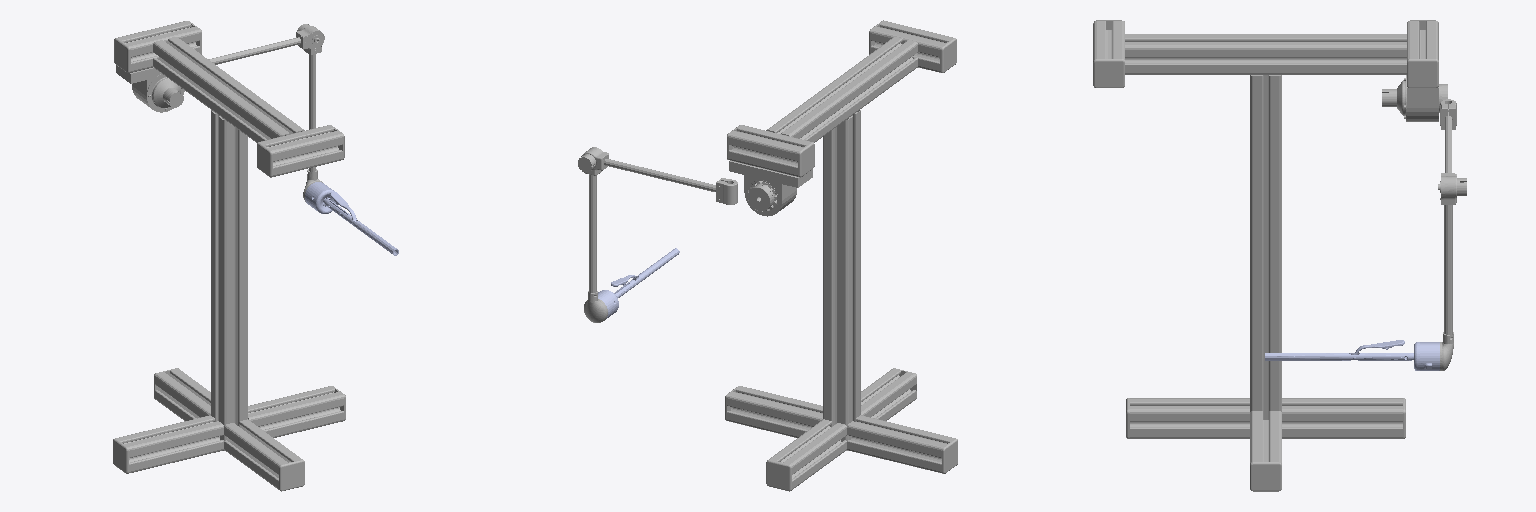
The robot description file, URDF, robot "simple_mtm_v15":
<?xml version="1.0" encoding="utf-8"?>
<!-- This URDF was automatically created by SolidWorks to URDF Exporter! Originally created by Stephen Brawner (brawner@gmail.com) 
     Commit Version: 1.6.0-4-g7f85cfe  Build Version: 1.6.7995.38578
     For more information, please see http://wiki.ros.org/sw_urdf_exporter -->
<robot
  name="simple_mtm_v15">
  <link
    name="base_link">
    <inertial>
      <origin
        xyz="5.47199378512293E-12 0.0331941103362251 0.121119699522856"
        rpy="0 0 0" />
      <mass
        value="1.10120945723253" />
      <inertia
        ixx="0.00778946719068149"
        ixy="-1.5508964879954E-14"
        ixz="-7.15589698622076E-15"
        iyy="0.00613139149583515"
        iyz="-6.01985020734907E-07"
        izz="0.00283497412761364" />
    </inertial>
    <visual>
      <origin
        xyz="0 0 0"
        rpy="0 0 0" />
      <geometry>
        <mesh
          filename="package://simple_mtm_v15/meshes/base_link.STL" />
      </geometry>
      <material
        name="">
        <color
          rgba="0.752941176470588 0.752941176470588 0.752941176470588 1" />
      </material>
    </visual>
    <collision>
      <origin
        xyz="0 0 0"
        rpy="0 0 0" />
      <geometry>
        <mesh
          filename="package://simple_mtm_v15/meshes/base_link.STL" />
      </geometry>
    </collision>
  </link>
  <link
    name="right_J1_link">
    <inertial>
      <origin
        xyz="-0.0272468641090274 -0.00431239962158353 0.0136177788693086"
        rpy="0 0 0" />
      <mass
        value="0.217265269014196" />
      <inertia
        ixx="8.82896586894772E-05"
        ixy="-5.23747831689456E-06"
        ixz="4.84618661160411E-07"
        iyy="9.88337545554211E-05"
        iyz="3.16056040570284E-07"
        izz="0.000161817724585355" />
    </inertial>
    <visual>
      <origin
        xyz="0 0 0"
        rpy="0 0 0" />
      <geometry>
        <mesh
          filename="package://simple_mtm_v15/meshes/right_J1_link.STL" />
      </geometry>
      <material
        name="">
        <color
          rgba="0.752941176470588 0.752941176470588 0.752941176470588 1" />
      </material>
    </visual>
    <collision>
      <origin
        xyz="0 0 0"
        rpy="0 0 0" />
      <geometry>
        <mesh
          filename="package://simple_mtm_v15/meshes/right_J1_link.STL" />
      </geometry>
    </collision>
  </link>
  <joint
    name="right_J1_joint"
    type="continuous">
    <origin
      xyz="0 0.216999999999986 0.285"
      rpy="-1.57079632679489 0 0" />
    <parent
      link="base_link" />
    <child
      link="right_J1_link" />
    <axis
      xyz="0 0 1" />
  </joint>
  <link
    name="right_J2_link">
    <inertial>
      <origin
        xyz="-0.113474393867848 0.00107776626147318 -1.35568763492966E-07"
        rpy="0 0 0" />
      <mass
        value="0.028442603557216" />
      <inertia
        ixx="2.23413747833826E-06"
        ixy="-8.63056316192383E-08"
        ixz="-3.63778380618004E-11"
        iyy="2.18319915210086E-05"
        iyz="1.9508735560704E-13"
        izz="2.11946804960037E-05" />
    </inertial>
    <visual>
      <origin
        xyz="0 0 0"
        rpy="0 0 0" />
      <geometry>
        <mesh
          filename="package://simple_mtm_v15/meshes/right_J2_link.STL" />
      </geometry>
      <material
        name="">
        <color
          rgba="0.752941176470588 0.752941176470588 0.752941176470588 1" />
      </material>
    </visual>
    <collision>
      <origin
        xyz="0 0 0"
        rpy="0 0 0" />
      <geometry>
        <mesh
          filename="package://simple_mtm_v15/meshes/right_J2_link.STL" />
      </geometry>
    </collision>
  </link>
  <joint
    name="right_J2_joint"
    type="continuous">
    <origin
      xyz="0.045 0 0.0100000000000002"
      rpy="1.5707963267949 0 -3.14159265358977" />
    <parent
      link="right_J1_link" />
    <child
      link="right_J2_link" />
    <axis
      xyz="0 0 -1" />
  </joint>
  <link
    name="right_J3_link">
    <inertial>
      <origin
        xyz="0.169855168688481 -0.00305883869634632 0.000145482432812927"
        rpy="0 0 0" />
      <mass
        value="0.0380698507696103" />
      <inertia
        ixx="3.5701518186246E-06"
        ixy="5.7779729027812E-08"
        ixz="-8.33816066520026E-09"
        iyy="2.50590429107588E-05"
        iyz="-4.10119336202671E-09"
        izz="2.32459379325556E-05" />
    </inertial>
    <visual>
      <origin
        xyz="0 0 0"
        rpy="0 0 0" />
      <geometry>
        <mesh
          filename="package://simple_mtm_v15/meshes/right_J3_link.STL" />
      </geometry>
      <material
        name="">
        <color
          rgba="0.752941176470588 0.752941176470588 0.752941176470588 1" />
      </material>
    </visual>
    <collision>
      <origin
        xyz="0 0 0"
        rpy="0 0 0" />
      <geometry>
        <mesh
          filename="package://simple_mtm_v15/meshes/right_J3_link.STL" />
      </geometry>
    </collision>
  </link>
  <joint
    name="right_J3_joint"
    type="continuous">
    <origin
      xyz="-0.217499999999999 -0.0095000000000009 0"
      rpy="0 -1.5707963267949 0" />
    <parent
      link="right_J2_link" />
    <child
      link="right_J3_link" />
    <axis
      xyz="0 1 0" />
  </joint>
  <link
    name="right_G3_link">
    <inertial>
      <origin
        xyz="-0.000538298034257867 0.0205137660110619 6.93755568111562E-05"
        rpy="0 0 0" />
      <mass
        value="0.0139115090394775" />
      <inertia
        ixx="2.05714095768685E-06"
        ixy="-1.18920441797108E-08"
        ixz="-1.26103314022535E-08"
        iyy="3.24885522100955E-06"
        iyz="8.79998026858768E-09"
        izz="2.08516206561186E-06" />
    </inertial>
    <visual>
      <origin
        xyz="0 0 0"
        rpy="0 0 0" />
      <geometry>
        <mesh
          filename="package://simple_mtm_v15/meshes/right_G3_link.STL" />
      </geometry>
      <material
        name="">
        <color
          rgba="0.792156862745098 0.819607843137255 0.933333333333333 1" />
      </material>
    </visual>
    <collision>
      <origin
        xyz="0 0 0"
        rpy="0 0 0" />
      <geometry>
        <mesh
          filename="package://simple_mtm_v15/meshes/right_G3_link.STL" />
      </geometry>
    </collision>
  </link>
  <joint
    name="right_G3_joint"
    type="continuous">
    <origin
      xyz="0.232499999999994 -0.000500000000001194 0"
      rpy="3.14159265358979 1.5707963267949 0" />
    <parent
      link="right_J3_link" />
    <child
      link="right_G3_link" />
    <axis
      xyz="0 -1 0" />
  </joint>
  <link
    name="right_G2_link">
    <inertial>
      <origin
        xyz="-0.000390964800845855 2.19780089573407E-05 -0.00102567858648558"
        rpy="0 0 0" />
      <mass
        value="0.000175394578104925" />
      <inertia
        ixx="6.00806245621315E-09"
        ixy="1.19071568961015E-11"
        ixz="-1.77273008759156E-09"
        iyy="7.79464906245331E-09"
        iyz="3.12378910526836E-11"
        izz="2.03310817422897E-09" />
    </inertial>
    <visual>
      <origin
        xyz="0 0 0"
        rpy="0 0 0" />
      <geometry>
        <mesh
          filename="package://simple_mtm_v15/meshes/right_G2_link.STL" />
      </geometry>
      <material
        name="">
        <color
          rgba="0.792156862745098 0.819607843137255 0.933333333333333 1" />
      </material>
    </visual>
    <collision>
      <origin
        xyz="0 0 0"
        rpy="0 0 0" />
      <geometry>
        <mesh
          filename="package://simple_mtm_v15/meshes/right_G2_link.STL" />
      </geometry>
    </collision>
  </link>
  <joint
    name="right_G2_joint"
    type="continuous">
    <origin
      xyz="0 0.02253 0"
      rpy="0 -0.364174851103282 3.14159265358979" />
    <parent
      link="right_G3_link" />
    <child
      link="right_G2_link" />
    <axis
      xyz="0.356178381855326 0 0.934417979439031" />
  </joint>
  <link
    name="right_G1_link">
    <inertial>
      <origin
        xyz="-1.05032013909545E-05 -0.085828273258809 -2.73302344714343E-05"
        rpy="0 0 0" />
      <mass
        value="0.00625621520567211" />
      <inertia
        ixx="1.27666098425883E-05"
        ixy="-3.81984029960301E-10"
        ixz="1.82290603449966E-09"
        iyy="1.14531246370276E-07"
        iyz="-1.08584454873E-09"
        izz="1.27722041084183E-05" />
    </inertial>
    <visual>
      <origin
        xyz="0 0 0"
        rpy="0 0 0" />
      <geometry>
        <mesh
          filename="package://simple_mtm_v15/meshes/right_G1_link.STL" />
      </geometry>
      <material
        name="">
        <color
          rgba="0.792156862745098 0.819607843137255 0.933333333333333 1" />
      </material>
    </visual>
    <collision>
      <origin
        xyz="0 0 0"
        rpy="0 0 0" />
      <geometry>
        <mesh
          filename="package://simple_mtm_v15/meshes/right_G1_link.STL" />
      </geometry>
    </collision>
  </link>
  <joint
    name="right_G1_joint"
    type="continuous">
    <origin
      xyz="0 0 0"
      rpy="0 0 0" />
    <parent
      link="right_G2_link" />
    <child
      link="right_G1_link" />
    <axis
      xyz="0.934417979439031 0 -0.356178381855326" />
  </joint>
  <link
    name="right_G0_1_link">
    <inertial>
      <origin
        xyz="0.00495725277495374 0.0335829908035101 0.0131185541022431"
        rpy="0 0 0" />
      <mass
        value="0.00204075415287945" />
      <inertia
        ixx="7.29183551455891E-07"
        ixy="-6.03030711122888E-08"
        ixz="-1.19420109398602E-08"
        iyy="6.47741964762135E-08"
        iyz="-1.39761570231973E-07"
        izz="7.1062317024314E-07" />
    </inertial>
    <visual>
      <origin
        xyz="0 0 0"
        rpy="0 0 0" />
      <geometry>
        <mesh
          filename="package://simple_mtm_v15/meshes/right_G0_1_link.STL" />
      </geometry>
      <material
        name="">
        <color
          rgba="0.792156862745098 0.819607843137255 0.933333333333333 1" />
      </material>
    </visual>
    <collision>
      <origin
        xyz="0 0 0"
        rpy="0 0 0" />
      <geometry>
        <mesh
          filename="package://simple_mtm_v15/meshes/right_G0_1_link.STL" />
      </geometry>
    </collision>
  </link>
  <joint
    name="right_G0_1_joint"
    type="continuous">
    <origin
      xyz="0 -0.0843 0"
      rpy="-3.1218 -7.4478E-05 -3.1341" />
    <parent
      link="right_G1_link" />
    <child
      link="right_G0_1_link" />
    <axis
      xyz="0.93442 0 -0.35618" />
  </joint>
  <link
    name="right_G0_2_link">
    <inertial>
      <origin
        xyz="-0.00529617375766323 0.0331696096785512 -0.0140076982971626"
        rpy="0 0 0" />
      <mass
        value="0.00204075409890076" />
      <inertia
        ixx="7.27894302650057E-07"
        ixy="6.66372557371628E-08"
        ixz="-1.51382121210436E-08"
        iyy="7.39602915064878E-08"
        iyz="1.56605359477287E-07"
        izz="7.02726340131675E-07" />
    </inertial>
    <visual>
      <origin
        xyz="0 0 0"
        rpy="0 0 0" />
      <geometry>
        <mesh
          filename="package://simple_mtm_v15/meshes/right_G0_2_link.STL" />
      </geometry>
      <material
        name="">
        <color
          rgba="0.792156862745098 0.819607843137255 0.933333333333333 1" />
      </material>
    </visual>
    <collision>
      <origin
        xyz="0 0 0"
        rpy="0 0 0" />
      <geometry>
        <mesh
          filename="package://simple_mtm_v15/meshes/right_G0_2_link.STL" />
      </geometry>
    </collision>
  </link>
  <joint
    name="right_G0_2_link"
    type="continuous">
    <origin
      xyz="0 -0.0843 0"
      rpy="-3.1218 -7.4478E-05 -3.1341" />
    <parent
      link="right_G1_link" />
    <child
      link="right_G0_2_link" />
    <axis
      xyz="0.93442 0 -0.35618" />
  </joint>
</robot>

--- Render facts (derived) ---
The picture shows the robot from 3 angles, left to right: view 1: azimuth 30°, elevation 25°; view 2: azimuth 150°, elevation 25°; view 3: azimuth 270°, elevation 25°; orthographic projection.
Model simple_mtm_v15 with 9 links and 8 joints (8 continuous), rooted at base_link, posed every joint at zero.
Visible links, largest first — view 1: base_link, right_J2_link, right_J3_link, right_G1_link, right_G3_link; view 2: base_link, right_J2_link, right_J3_link, right_G1_link; view 3: base_link, right_J3_link, right_J2_link, right_G1_link, right_G3_link.
Boxes of the visible links, x1=… form: base_link: x1=113, y1=21, x2=345, y2=491; right_J2_link: x1=208, y1=24, x2=324, y2=64; right_J3_link: x1=303, y1=26, x2=324, y2=201; right_G1_link: x1=323, y1=198, x2=398, y2=255; right_G3_link: x1=305, y1=182, x2=336, y2=213; base_link: x1=725, y1=20, x2=957, y2=491; right_J2_link: x1=578, y1=147, x2=737, y2=204; right_J3_link: x1=584, y1=147, x2=607, y2=322; right_G1_link: x1=614, y1=248, x2=679, y2=297; base_link: x1=1093, y1=20, x2=1447, y2=491; right_J3_link: x1=1440, y1=176, x2=1456, y2=370; right_J2_link: x1=1438, y1=99, x2=1466, y2=197; right_G1_link: x1=1265, y1=353, x2=1413, y2=360; right_G3_link: x1=1414, y1=342, x2=1439, y2=370.
Size in the robot's own frame: 0.4564 by 0.4646 by 0.54 metres.
7 mesh visuals loaded from 9 distinct referenced files (7 binary STL); not drawn: 2 (reference not matched to a file when rendering).
